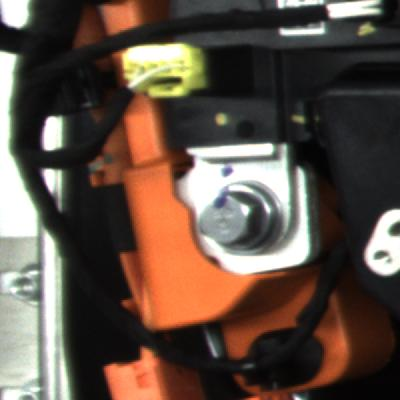nut_b: (196, 174, 285, 261)
